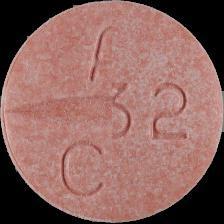49884-661: (0, 0, 224, 224)
